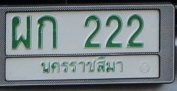txt01: (36, 14, 59, 51)
txt23: (10, 14, 33, 51)
